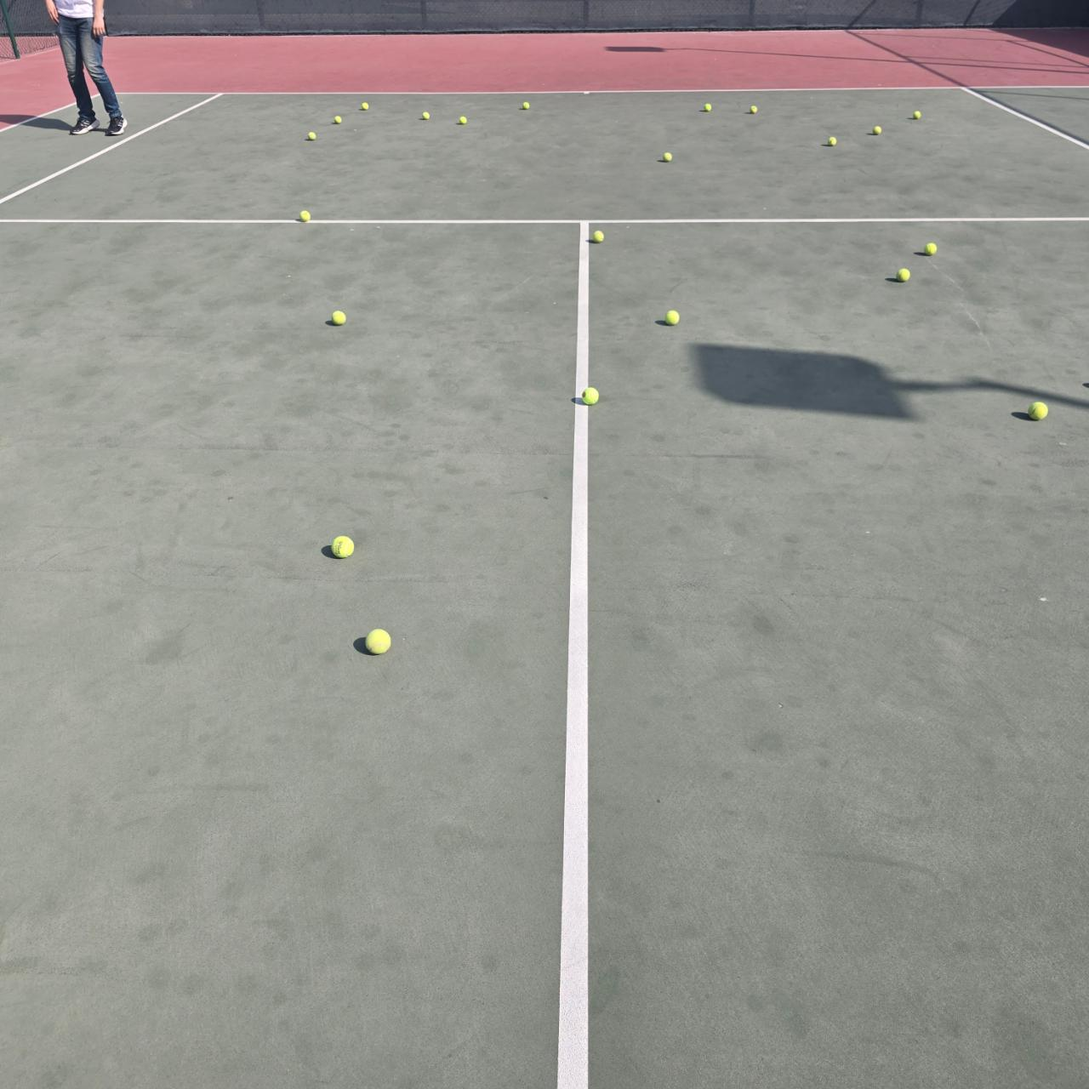tennis-ball: (364, 625, 391, 654), (330, 533, 355, 558), (1027, 398, 1048, 420), (581, 385, 598, 404), (664, 307, 680, 325), (330, 308, 346, 325), (923, 240, 937, 254), (896, 268, 910, 282), (590, 228, 603, 242), (299, 209, 311, 223), (662, 152, 673, 163), (827, 136, 837, 147), (871, 126, 882, 135), (459, 115, 468, 125), (912, 111, 922, 120), (334, 115, 343, 124), (422, 112, 431, 121), (703, 103, 712, 112), (749, 105, 758, 114), (522, 101, 530, 111), (307, 132, 316, 140), (362, 102, 369, 110)
